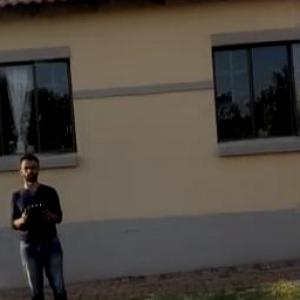follow: (5, 140, 82, 298)
